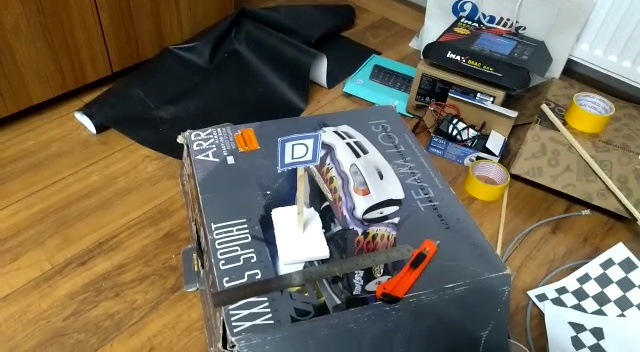durak: (273, 129, 323, 174)
